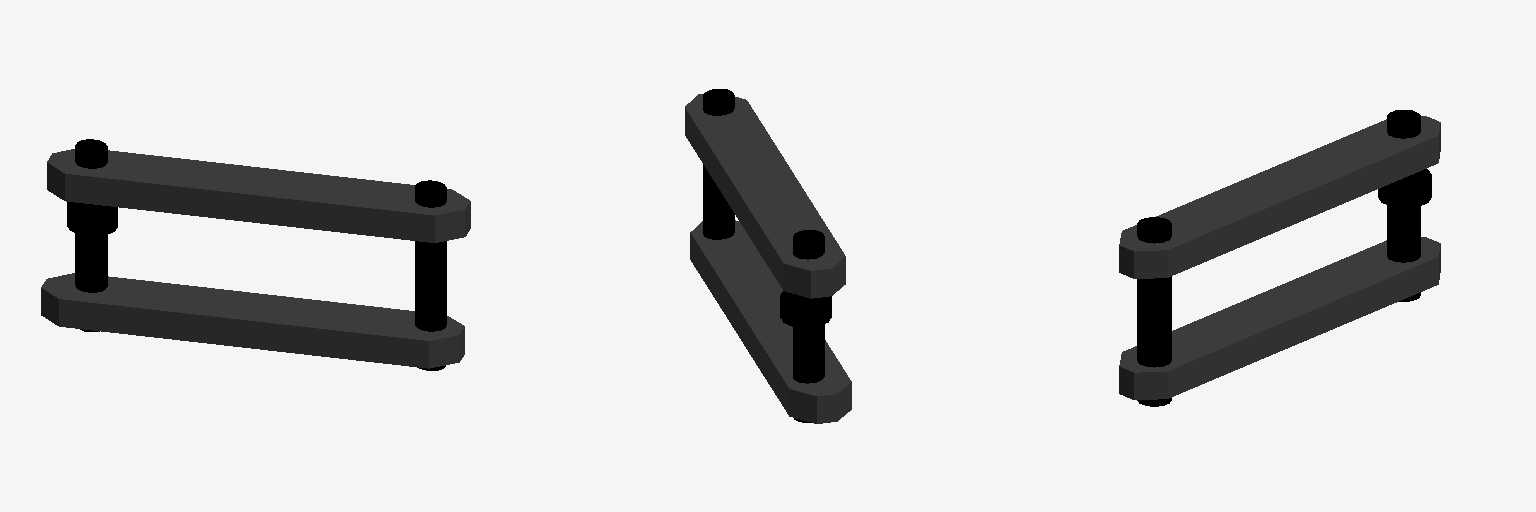
3 views of the same model, side by side, from view 1: azimuth 30°, elevation 25°; view 2: azimuth 150°, elevation 25°; view 3: azimuth 270°, elevation 25° (orthographic).
Parts seen in each view (by area): view 1: block00020, block00019, cylinder29, cylinder30, cylinder17; view 2: block00019, block00020, cylinder30, cylinder29, cylinder17; view 3: block00019, block00020, cylinder29, cylinder30, cylinder17.
Part boxes in pixels (x1,y1,x2,y2): block00020: (41,273,464,368); block00019: (47,149,470,242); cylinder29: (415,180,446,370); cylinder30: (75,139,107,331); cylinder17: (67,202,117,236); block00019: (685,94,845,298); block00020: (690,220,851,423); cylinder30: (793,230,824,422); cylinder29: (703,89,734,239); cylinder17: (780,291,831,327); block00019: (1119,116,1440,278); block00020: (1119,237,1440,399); cylinder29: (1137,217,1171,406); cylinder30: (1387,110,1420,301); cylinder17: (1378,169,1431,207).
Bounding box in the file's own units: 0.1322 × 0.0796 × 0.1295.